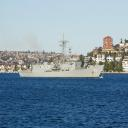Fragata: (18, 29, 106, 79)
